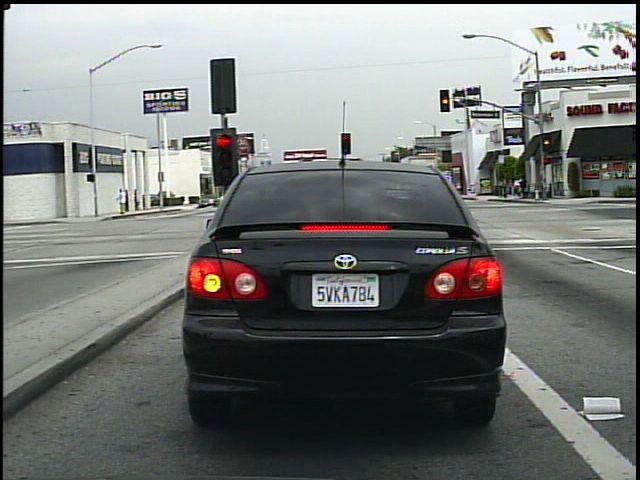person: (118, 186, 130, 217), (518, 174, 531, 200)
